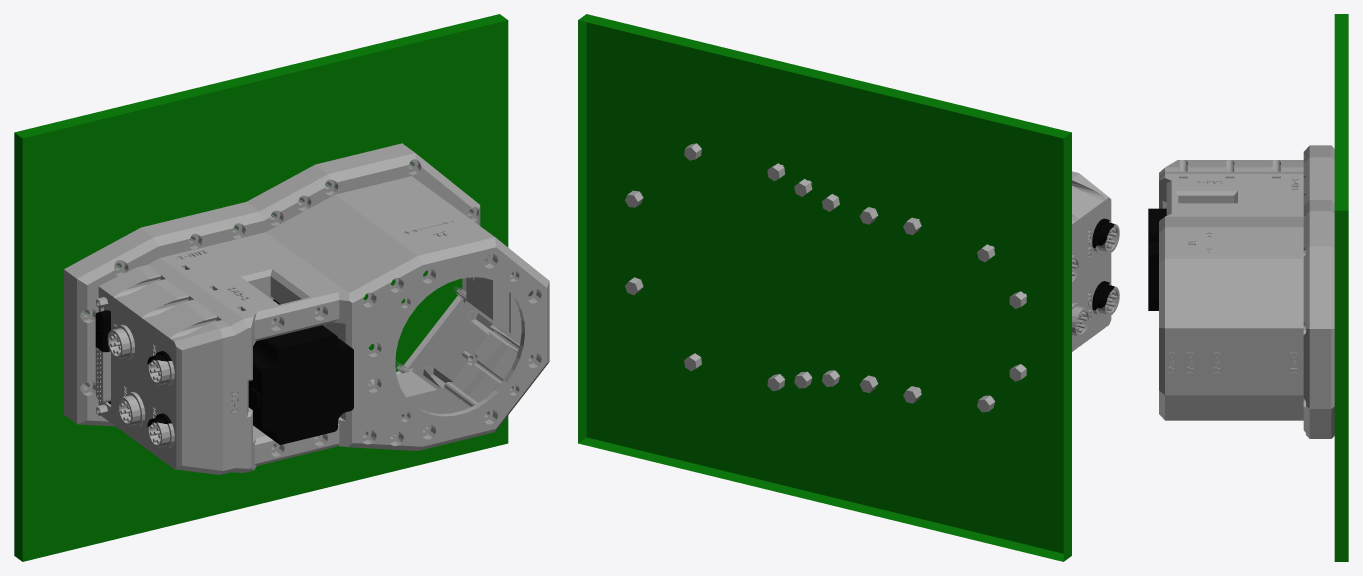
Rendered from anchor.obj.
The picture shows the model from 3 angles, left to right: view 1: azimuth 30°, elevation 25°; view 2: azimuth 150°, elevation 25°; view 3: azimuth 270°, elevation 25°; orthographic projection. The views are drawn at different scales.
Parts seen in each view (by area): view 1: Anchor; view 2: Anchor; view 3: Anchor.
Part boxes in pixels (x1,y1,x2,y2): Anchor: (14, 14, 549, 561); Anchor: (578, 14, 1119, 561); Anchor: (1148, 14, 1348, 561).
Bounding box in the file's own units: 30 × 25 × 12.9.
